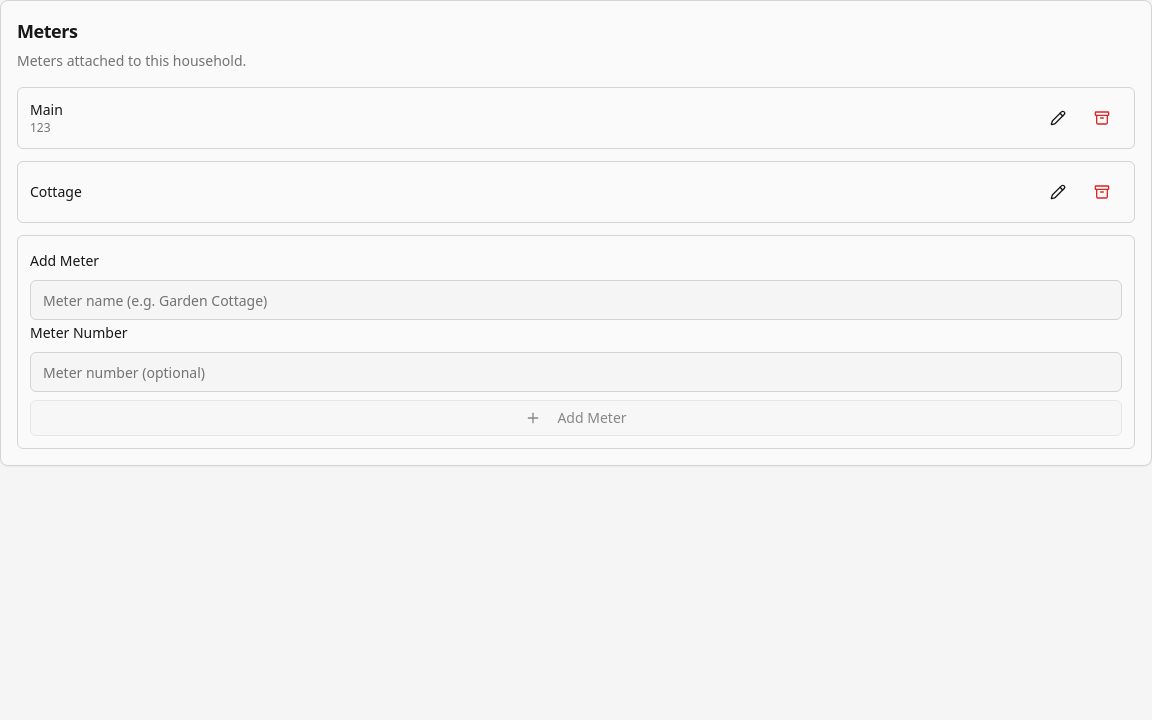
Test: MeterManagementCard › populates the edit dialog's threshold/usage fields once meters finish loading after mount
Click the button named "Edit meter Main" at (1058, 118), box [1038,100,1078,136]
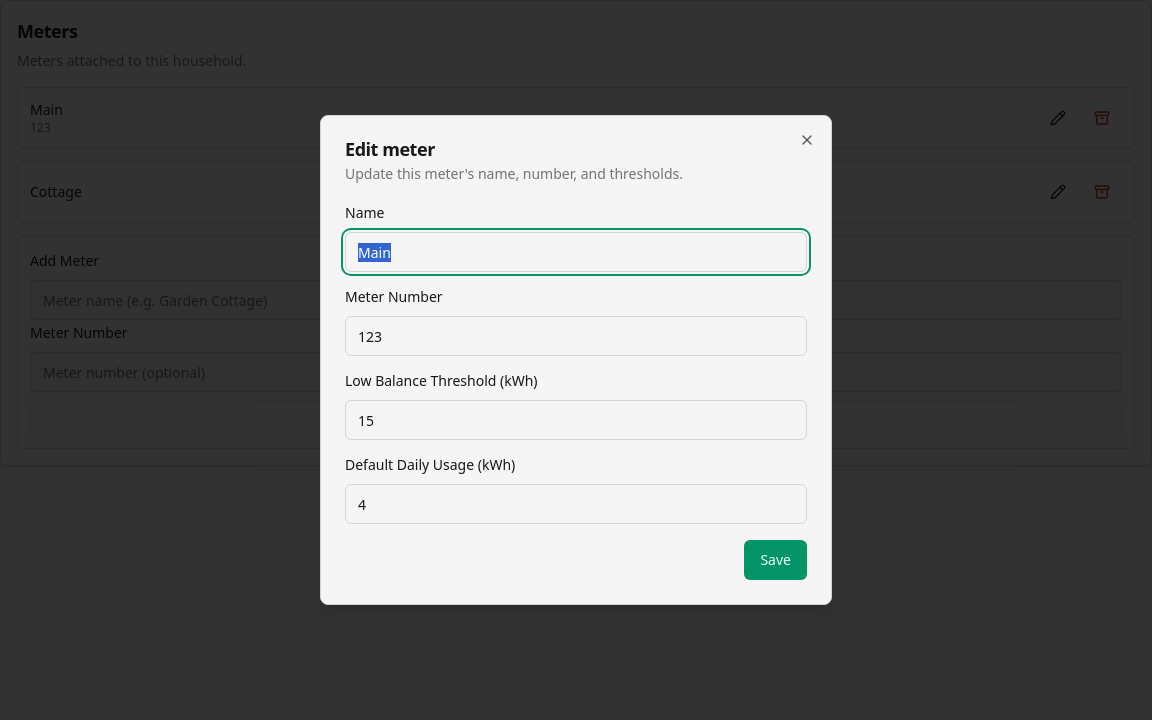
Check: the heading "Edit meter" is shown, box [345,137,435,161]
Check: the number field labelled "Low Balance Threshold (kWh)" holds "15", box [345,400,807,440]
Check: the number field labelled "Default Daily Usage (kWh)" holds "4", box [345,484,807,524]
